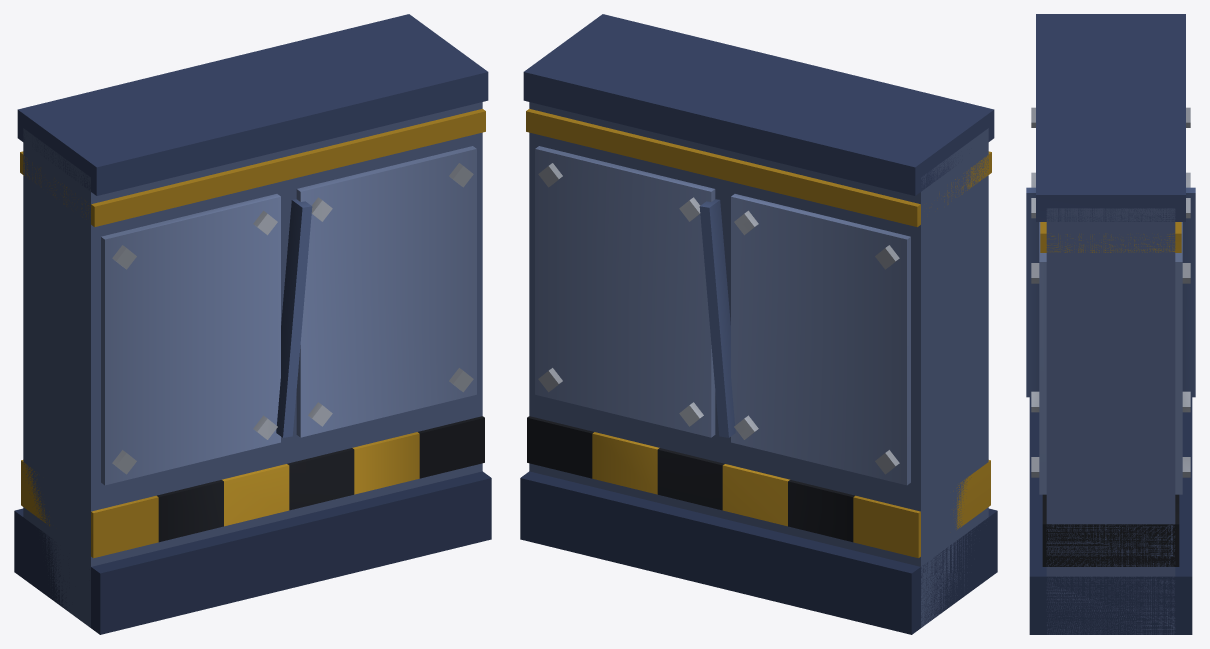
Rendered from wall_link_2.glb.
3 views of the same model, side by side, from view 1: azimuth 30°, elevation 25°; view 2: azimuth 150°, elevation 25°; view 3: azimuth 270°, elevation 25° (orthographic). The views are drawn at different scales.
Parts seen in each view (by area): view 1: body; view 2: body; view 3: body.
Part boxes in pixels (box(x1,y1,x2,y2)): body: box(14, 14, 491, 634); body: box(520, 14, 997, 634); body: box(1026, 14, 1195, 634).
Size of the model in its own units: 2 by 2.27 by 0.79.
